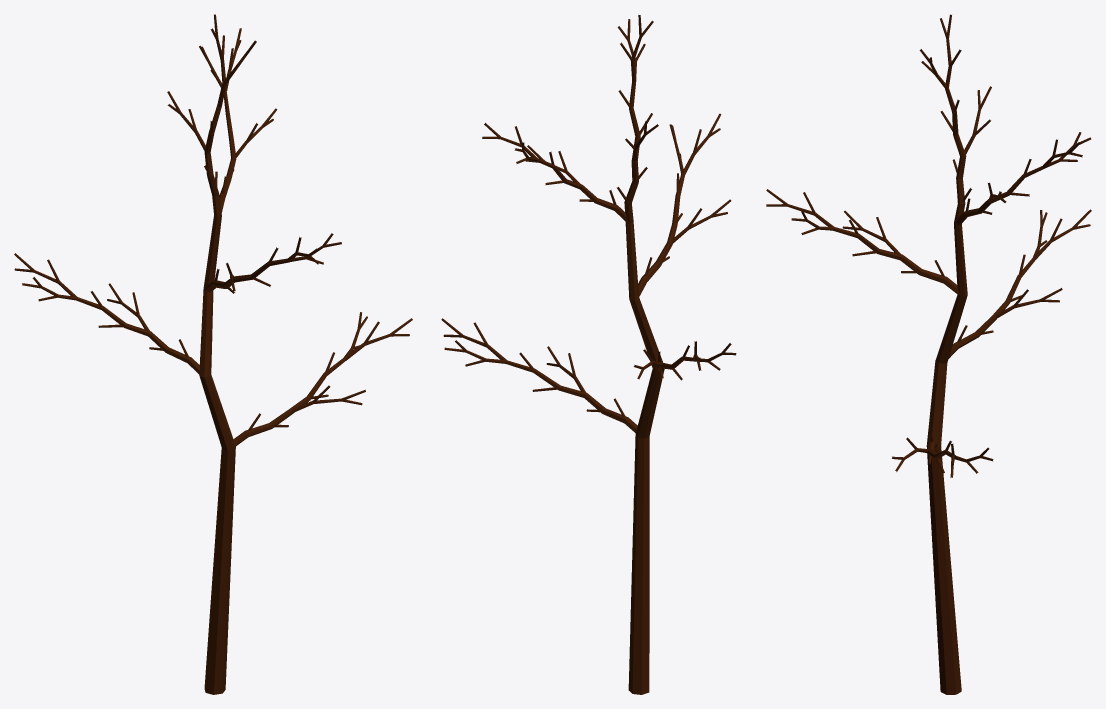
The model's file is arbol2.glb.
3 views of the same model, side by side, from view 1: azimuth 30°, elevation 25°; view 2: azimuth 150°, elevation 25°; view 3: azimuth 270°, elevation 25° (orthographic).
Visible parts, largest first — view 1: ARVORE_SEM001; view 2: ARVORE_SEM001; view 3: ARVORE_SEM001.
Part boxes in pixels (x1,y1,x2,y2): ARVORE_SEM001: [14, 14, 412, 694]; ARVORE_SEM001: [441, 15, 736, 694]; ARVORE_SEM001: [766, 14, 1091, 694].
Size of the model in its own units: 1305 by 2456 by 1072.
